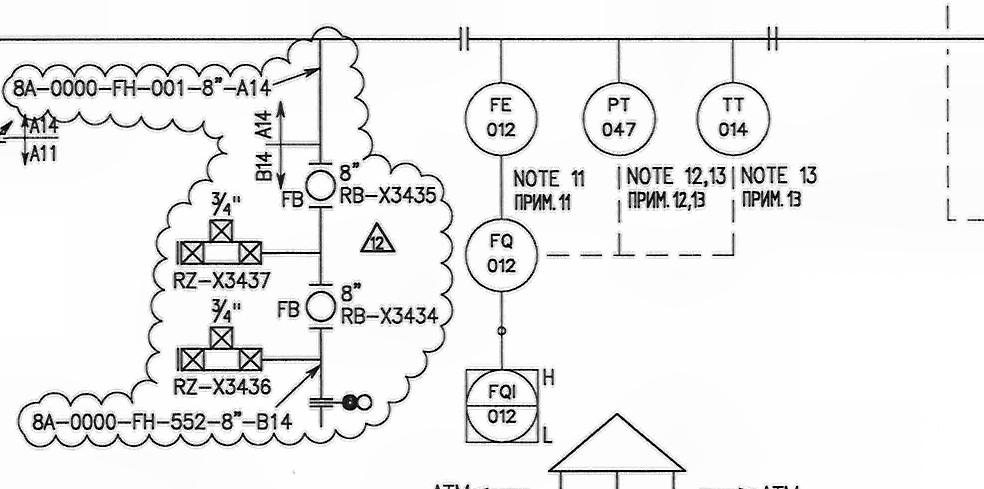2 WAY VALVE: (174, 321, 270, 372), (177, 215, 265, 268)
DCS ACCESSIBLE: (462, 366, 541, 446)
FIELD INSTRUMENT: (458, 212, 546, 296), (456, 81, 544, 156), (692, 78, 774, 157), (580, 78, 658, 158), (300, 163, 338, 207), (306, 288, 339, 324)
REVISION TRIANGLE: (358, 218, 396, 254)
SPECTACLE BLIND CLOSED: (303, 388, 382, 418)
